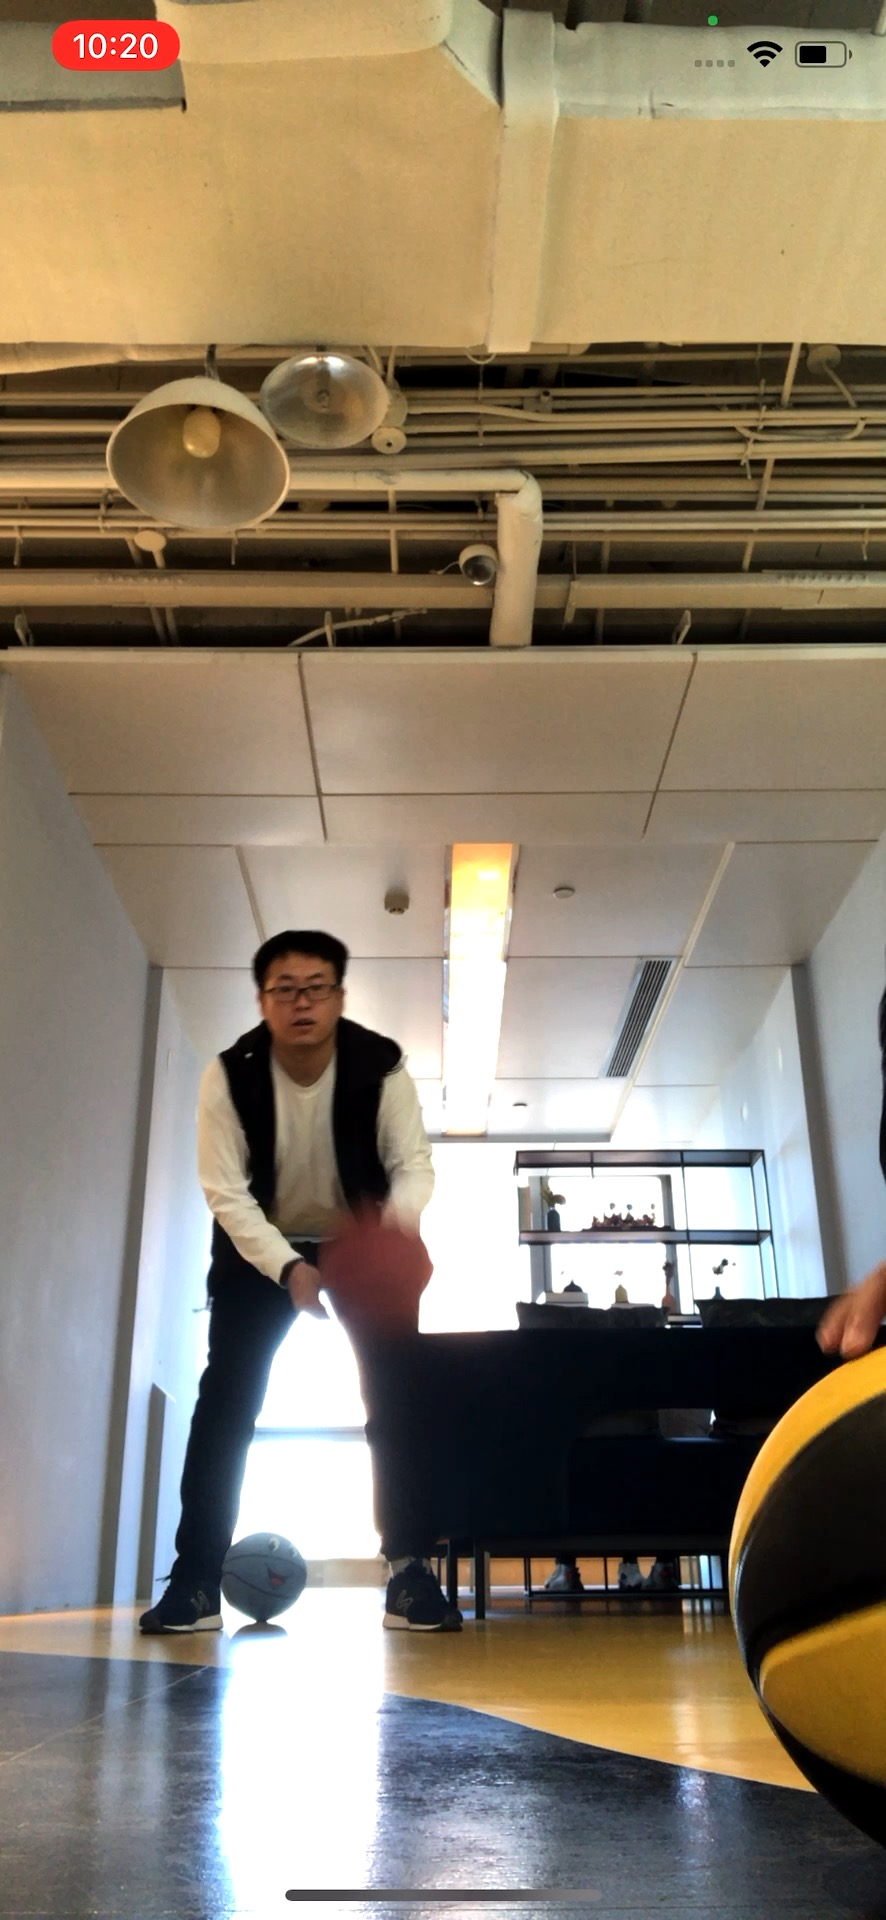ball: (729, 1347, 886, 1840), (326, 1223, 437, 1337), (218, 1531, 306, 1621)
